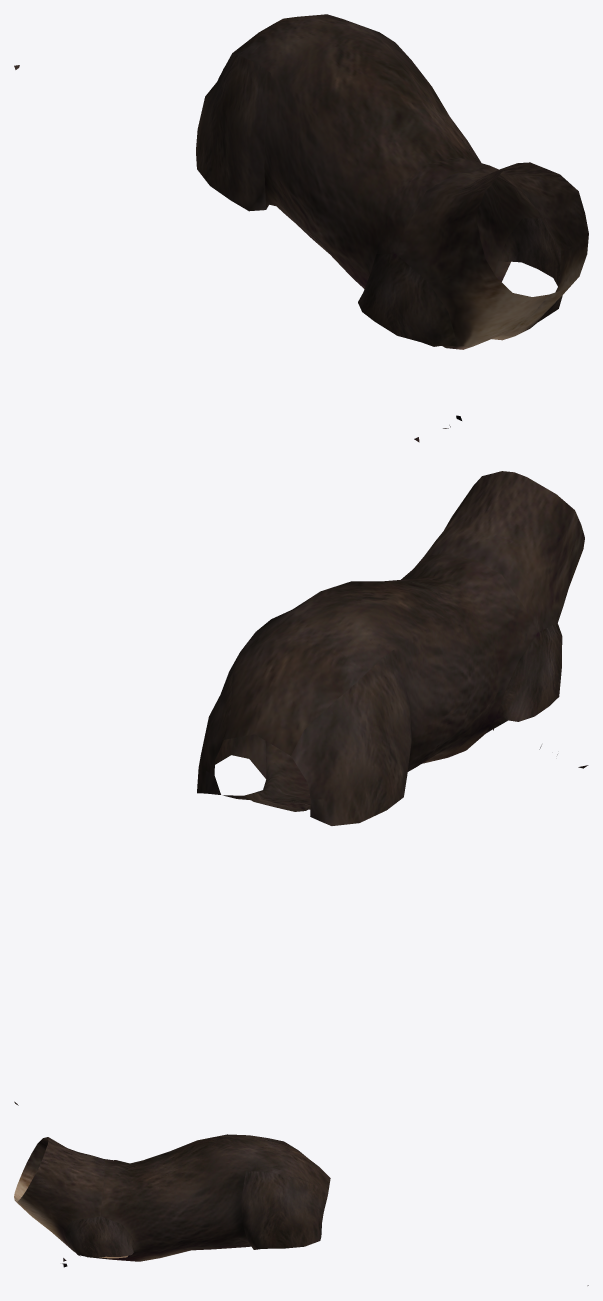
File: nutriabody.obj
The picture shows the model from 3 angles, top to bottom: view 1: azimuth 30°, elevation 25°; view 2: azimuth 150°, elevation 25°; view 3: azimuth 270°, elevation 25°; orthographic projection. The views are drawn at different scales.
Visible parts, largest first — view 1: body_Mat.1_0_Mat.1; view 2: body_Mat.1_0_Mat.1; view 3: body_Mat.1_0_Mat.1.
Part boxes in pixels (left/top/right/bottom): body_Mat.1_0_Mat.1: left=14, top=14, right=588, bottom=442; body_Mat.1_0_Mat.1: left=14, top=471, right=588, bottom=1105; body_Mat.1_0_Mat.1: left=14, top=1134, right=588, bottom=1285.
Bounding box in the file's own units: 27.61 × 40.47 × 143.
1 material, 1 textured.
